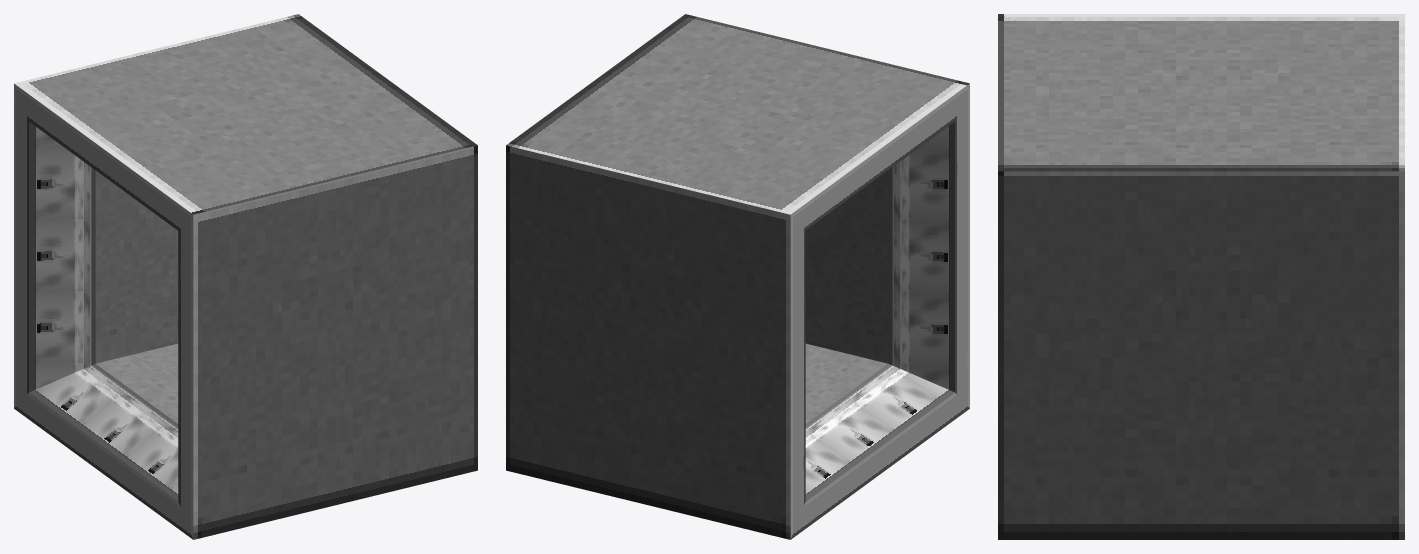
The model's file is metal_safe.glb.
The picture shows the model from 3 angles, left to right: view 1: azimuth 30°, elevation 25°; view 2: azimuth 150°, elevation 25°; view 3: azimuth 270°, elevation 25°; orthographic projection. The views are drawn at different scales.
Parts seen in each view (by area): view 1: Object; view 2: Object; view 3: Object.
Part boxes in pixels (x1,y1,x2,y2): Object: [14, 14, 477, 539]; Object: [506, 14, 969, 539]; Object: [998, 14, 1404, 539].
Bounding box in the file's own units: 1.59 × 1.74 × 1.74.
Materials: 12 (12 with a texture image).
